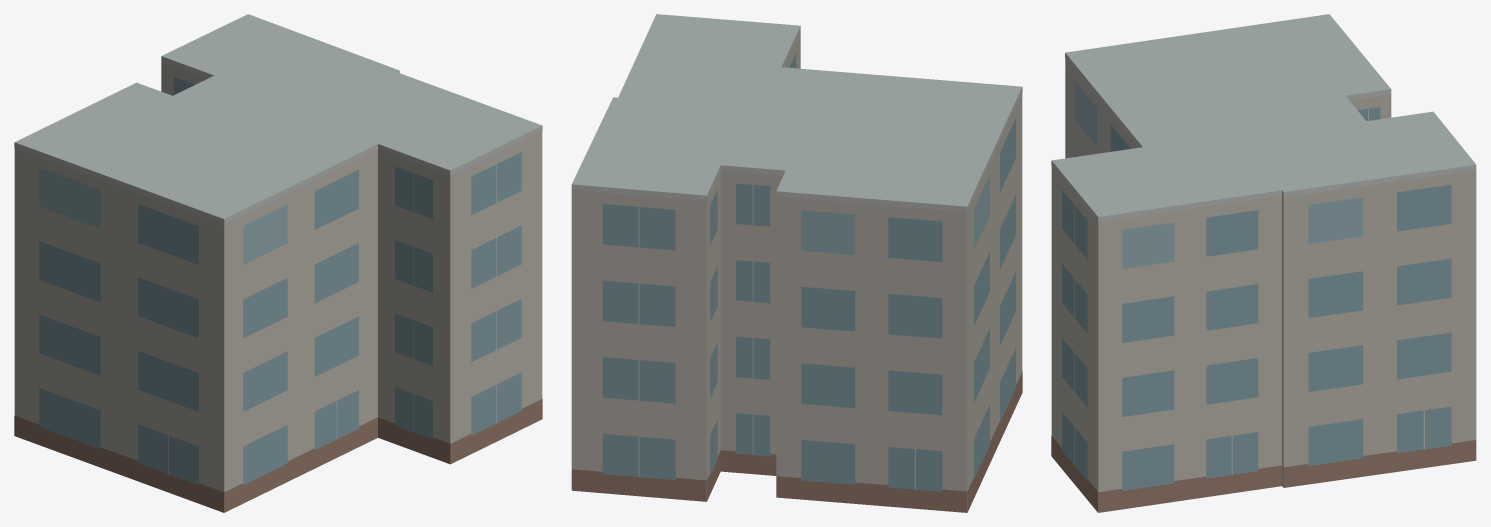
The model's file is survey-upis-32717577.glb.
3 renders of one model, left to right at view 1: azimuth 30°, elevation 25°; view 2: azimuth 150°, elevation 25°; view 3: azimuth 270°, elevation 25°, orthographic. The views are drawn at different scales.
Parts seen in each view (by area): view 1: survey-upis-32717577.tmp; view 2: survey-upis-32717577.tmp; view 3: survey-upis-32717577.tmp.
Boxes of the visible parts, box(x1,y1,x2,y2) form: survey-upis-32717577.tmp: box(14, 14, 542, 512); survey-upis-32717577.tmp: box(571, 14, 1022, 512); survey-upis-32717577.tmp: box(1051, 14, 1476, 512).
Size of the model in its own units: 19.95 by 13.55 by 17.65.
